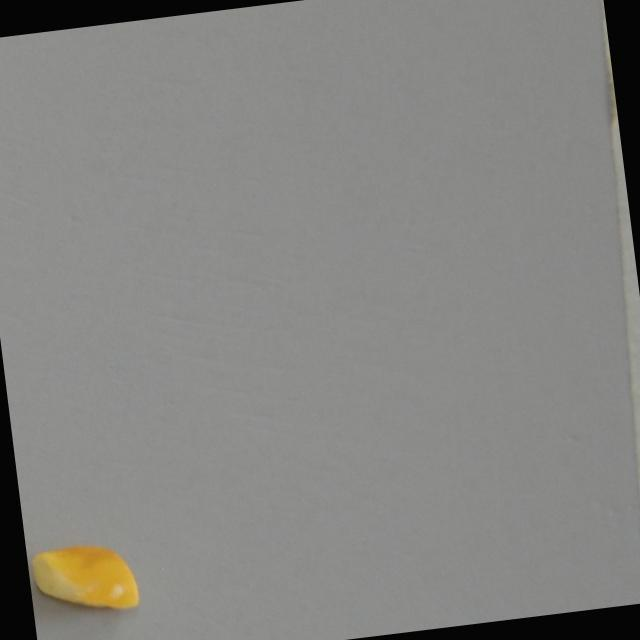dañado: (24, 519, 146, 624)
